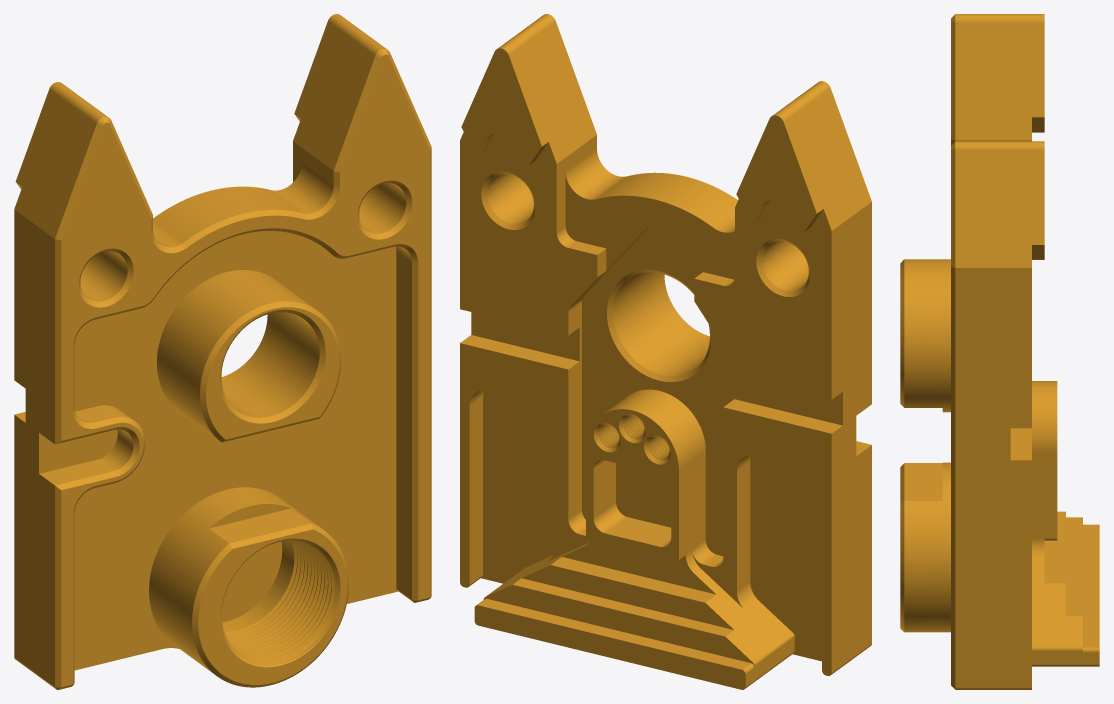
The picture shows the model from 3 angles, left to right: view 1: azimuth 30°, elevation 25°; view 2: azimuth 150°, elevation 25°; view 3: azimuth 270°, elevation 25°; orthographic projection. The views are drawn at different scales.
Bounding box in the file's own units: 96 × 142 × 47.
